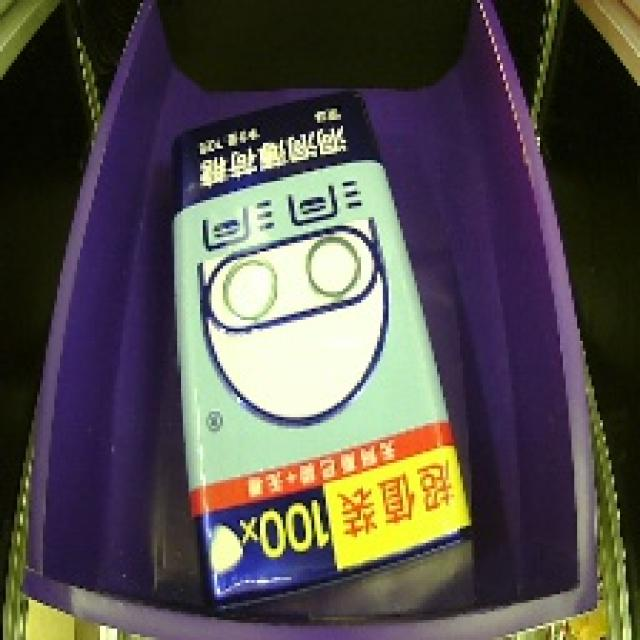metal: (155, 70, 486, 618)
